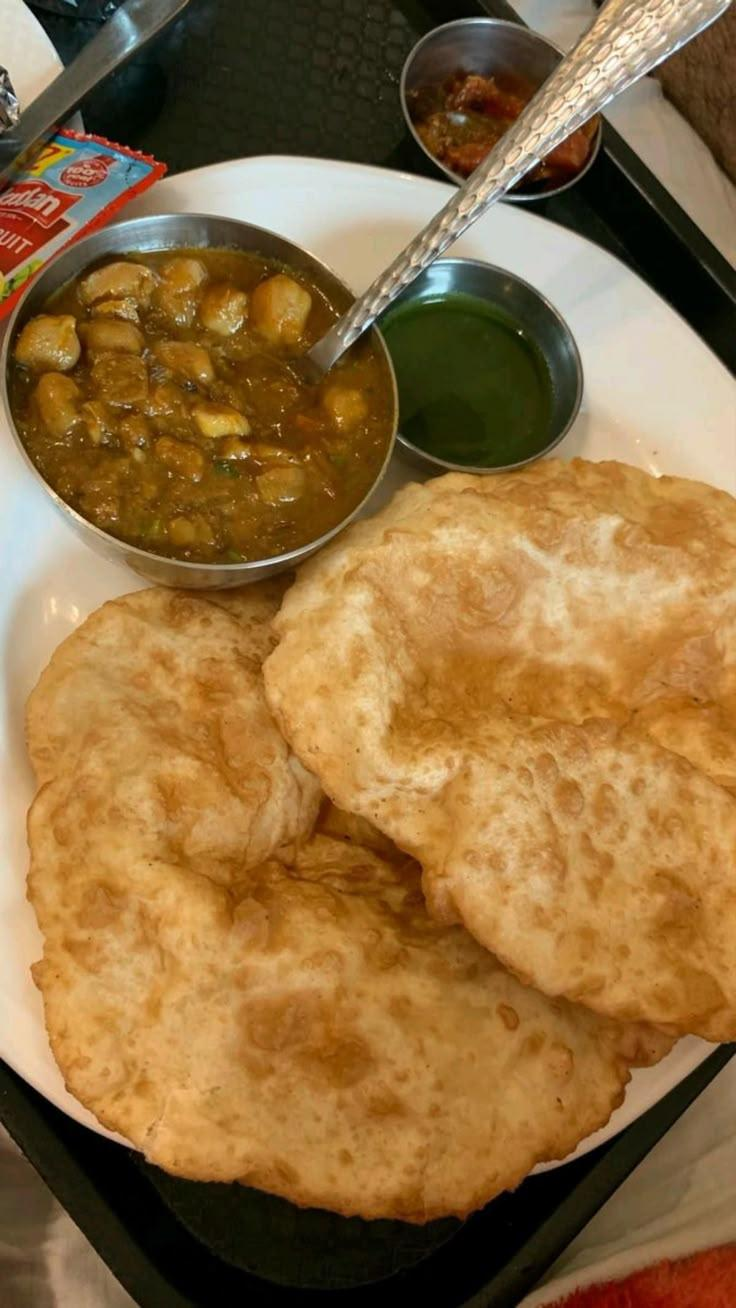chole: (33, 224, 390, 558)
puri: (63, 624, 736, 1142)
